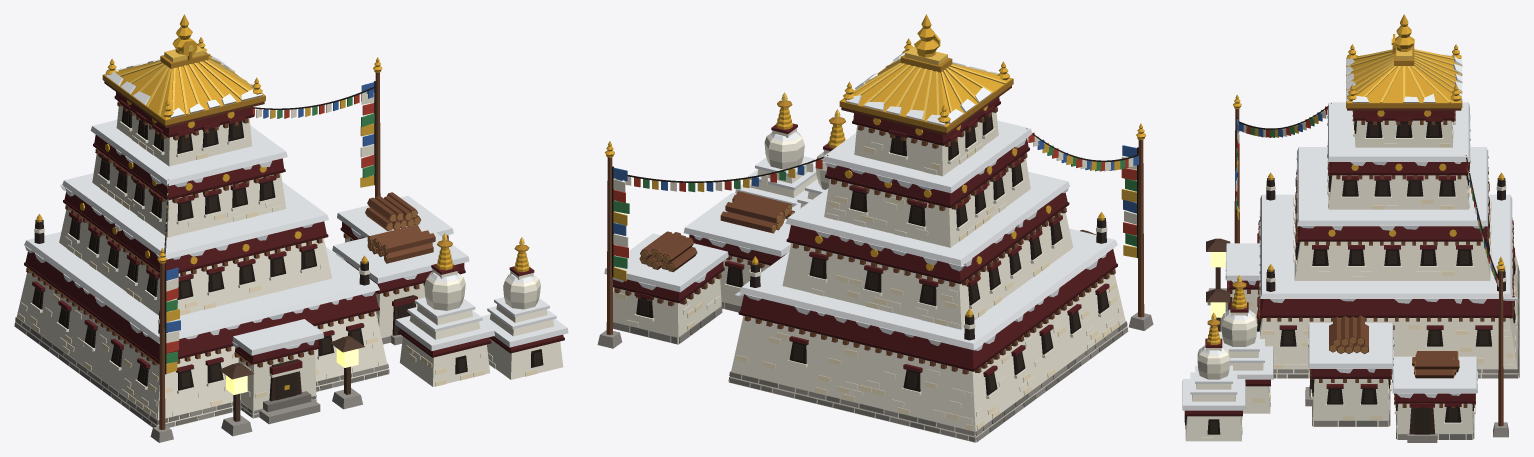
The model's file is snow_monastery_town.glb.
The picture shows the model from 3 angles, left to right: view 1: azimuth 30°, elevation 25°; view 2: azimuth 150°, elevation 25°; view 3: azimuth 270°, elevation 25°; orthographic projection. The views are drawn at different scales.
Parts seen in each view (by area): view 1: snow_monastery_town_SMT_Porcelain, snow_monastery_town_SMT_Snow, snow_monastery_town_SMT_Maroon, snow_monastery_town_SMT_Wood, snow_monastery_town_SMT_Gilt, snow_monastery_town_SMT_WinFrame, snow_monastery_town_SMT_MaroonDark, snow_monastery_town_SMT_Dark, snow_monastery_town_SMT_StoneGrey, snow_monastery_town_SMT_GiltLight, snow_monastery_town_SMT_Ivory, snow_monastery_town_SMT_StoneGreyDark (+11 smaller); view 2: snow_monastery_town_SMT_Porcelain, snow_monastery_town_SMT_Snow, snow_monastery_town_SMT_Maroon, snow_monastery_town_SMT_Wood, snow_monastery_town_SMT_Gilt, snow_monastery_town_SMT_WinFrame, snow_monastery_town_SMT_MaroonDark, snow_monastery_town_SMT_Ivory, snow_monastery_town_SMT_Dark, snow_monastery_town_SMT_StoneGrey, snow_monastery_town_SMT_StoneGreyDark, snow_monastery_town_SMT_GiltLight (+8 smaller); view 3: snow_monastery_town_SMT_Snow, snow_monastery_town_SMT_Porcelain, snow_monastery_town_SMT_Maroon, snow_monastery_town_SMT_Wood, snow_monastery_town_SMT_Gilt, snow_monastery_town_SMT_WinFrame, snow_monastery_town_SMT_MaroonDark, snow_monastery_town_SMT_Dark, snow_monastery_town_SMT_GiltLight, snow_monastery_town_SMT_StoneGrey, snow_monastery_town_SMT_Ivory, snow_monastery_town_SMT_GoldShade (+10 smaller).
Boxes of the visible parts, box(x1,y1,x2,y2) form: snow_monastery_town_SMT_Porcelain: box(15, 91, 563, 427); snow_monastery_town_SMT_Snow: box(24, 56, 568, 355); snow_monastery_town_SMT_Maroon: box(25, 92, 563, 374); snow_monastery_town_SMT_Wood: box(26, 72, 435, 429); snow_monastery_town_SMT_Gilt: box(36, 14, 529, 390); snow_monastery_town_SMT_WinFrame: box(32, 81, 543, 390); snow_monastery_town_SMT_MaroonDark: box(24, 96, 564, 364); snow_monastery_town_SMT_Dark: box(34, 110, 360, 387); snow_monastery_town_SMT_StoneGrey: box(14, 317, 402, 442); snow_monastery_town_SMT_GiltLight: box(109, 45, 524, 245); snow_monastery_town_SMT_Ivory: box(17, 141, 537, 414); snow_monastery_town_SMT_StoneGreyDark: box(27, 328, 389, 425); snow_monastery_town_SMT_Porcelain: box(613, 112, 1136, 442); snow_monastery_town_SMT_Snow: box(604, 52, 1117, 350); snow_monastery_town_SMT_Maroon: box(613, 97, 1116, 376); snow_monastery_town_SMT_Wood: box(606, 107, 1144, 374); snow_monastery_town_SMT_Gilt: box(605, 14, 1146, 317); snow_monastery_town_SMT_WinFrame: box(612, 112, 1138, 395); snow_monastery_town_SMT_MaroonDark: box(613, 101, 1117, 371); snow_monastery_town_SMT_Ivory: box(615, 146, 1118, 430); snow_monastery_town_SMT_Dark: box(639, 116, 1107, 391); snow_monastery_town_SMT_StoneGrey: box(597, 301, 1153, 441); snow_monastery_town_SMT_StoneGreyDark: box(630, 312, 1127, 441); snow_monastery_town_SMT_GiltLight: box(781, 46, 1006, 124); snow_monastery_town_SMT_Snow: box(1182, 54, 1512, 410); snow_monastery_town_SMT_Porcelain: box(1185, 109, 1518, 441); snow_monastery_town_SMT_Maroon: box(1185, 110, 1514, 413); snow_monastery_town_SMT_Wood: box(1228, 109, 1513, 426); snow_monastery_town_SMT_Gilt: box(1207, 14, 1505, 344); snow_monastery_town_SMT_WinFrame: box(1185, 103, 1515, 434); snow_monastery_town_SMT_MaroonDark: box(1184, 111, 1512, 416); snow_monastery_town_SMT_Dark: box(1256, 121, 1515, 420); snow_monastery_town_SMT_GiltLight: box(1211, 38, 1461, 320); snow_monastery_town_SMT_StoneGrey: box(1220, 265, 1519, 442); snow_monastery_town_SMT_Ivory: box(1185, 130, 1517, 429); snow_monastery_town_SMT_GoldShade: box(1207, 44, 1462, 325).
Bounding box in the file's own units: 3.89 × 3.2 × 3.18.
